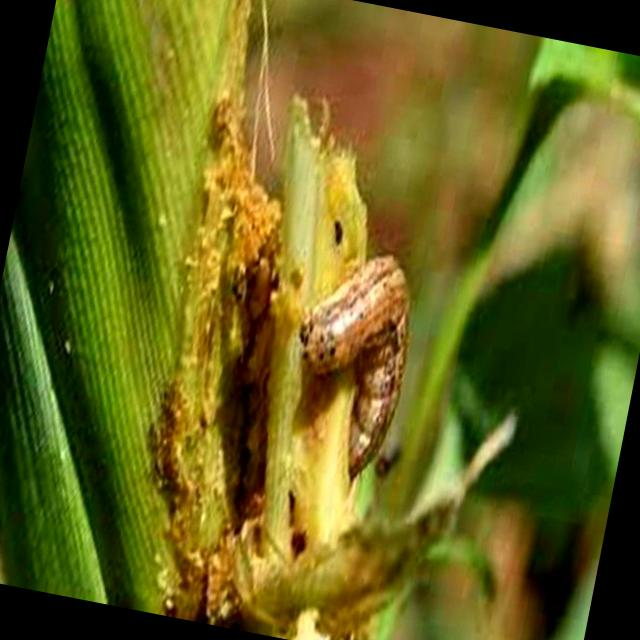pest: (289, 247, 440, 477)
